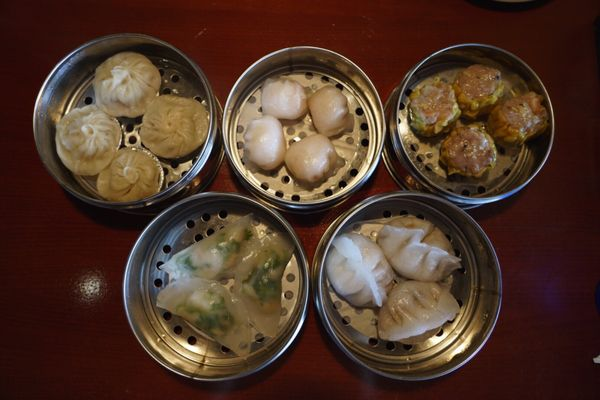sushi: (310, 191, 502, 380), (121, 193, 311, 379), (31, 32, 223, 213), (385, 43, 556, 206), (223, 44, 386, 212)
